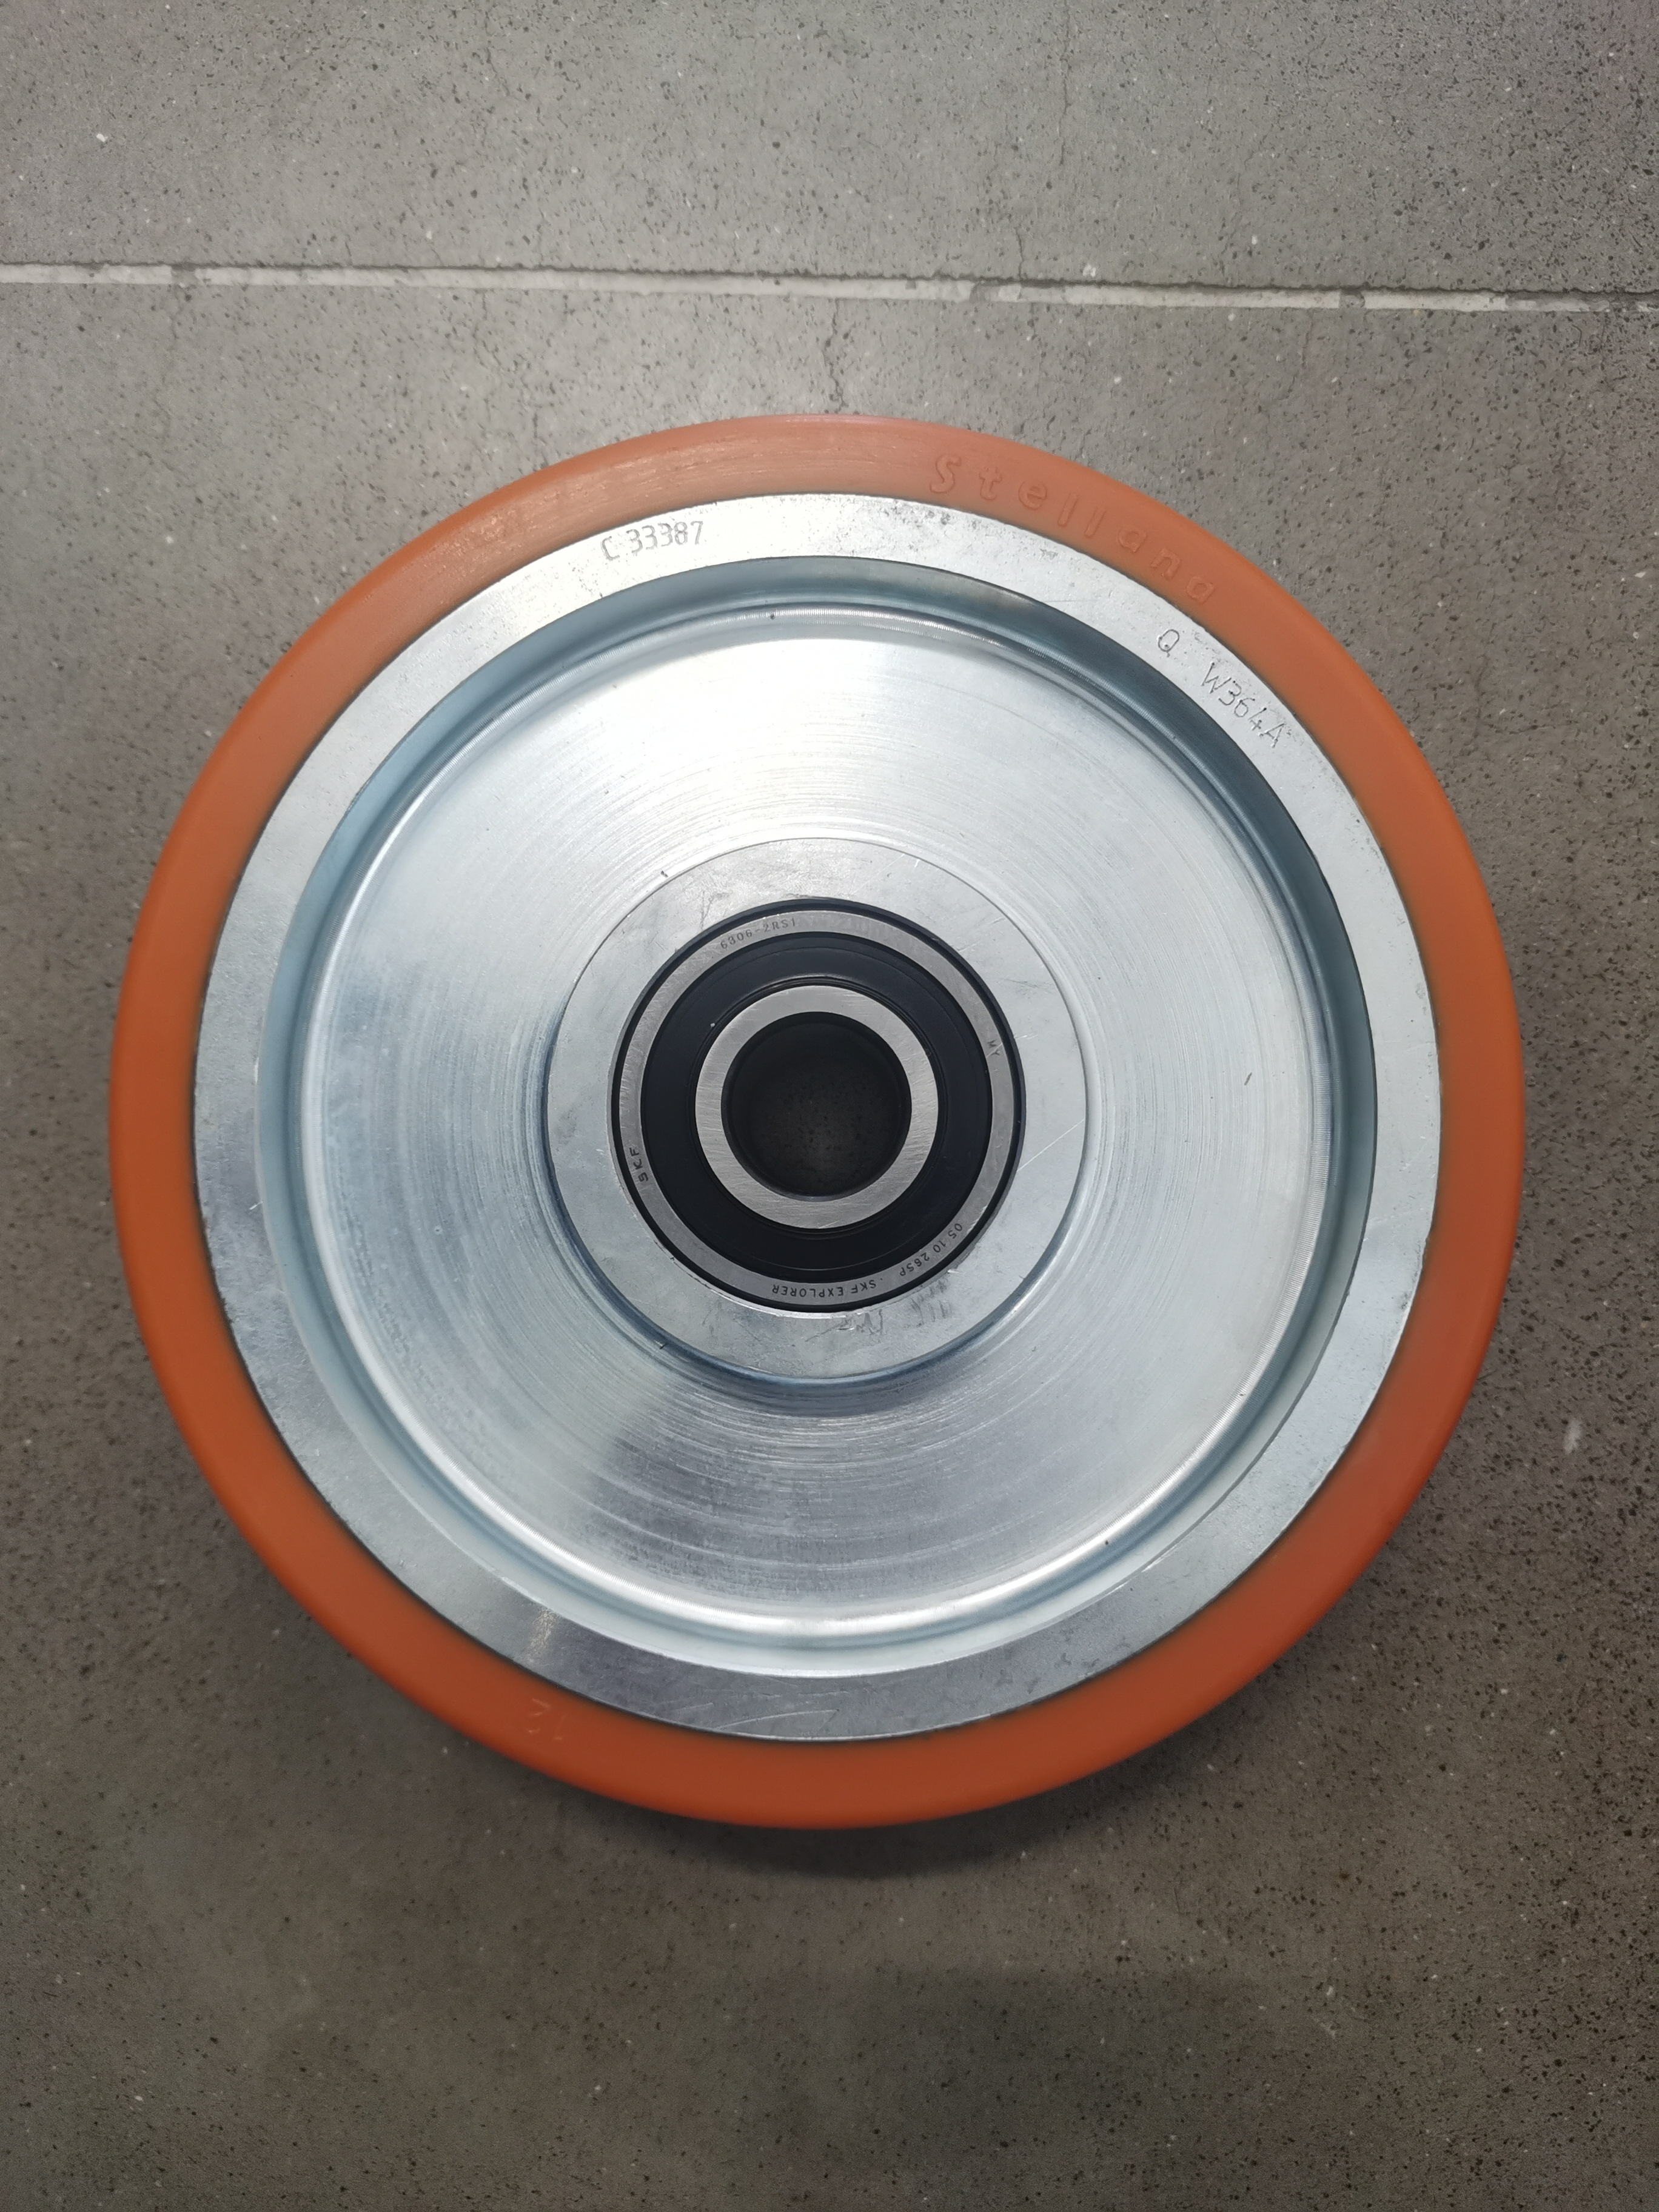good_wheel: (129, 401, 1523, 1881)
